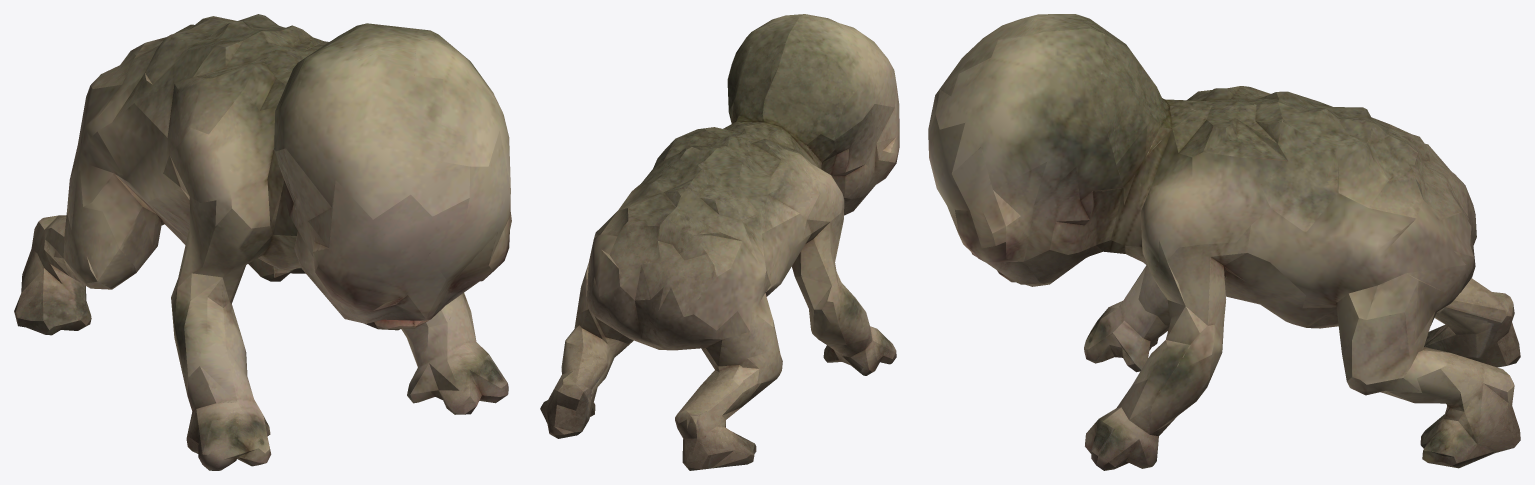
The model's file is rotspawn-pixelated.glb.
The picture shows the model from 3 angles, left to right: view 1: azimuth 30°, elevation 25°; view 2: azimuth 150°, elevation 25°; view 3: azimuth 270°, elevation 25°; orthographic projection. The views are drawn at different scales.
Parts seen in each view (by area): view 1: geometry_0; view 2: geometry_0; view 3: geometry_0.
Boxes of the visible parts, x1=… form: geometry_0: x1=14, y1=14, x2=511, y2=470; geometry_0: x1=540, y1=14, x2=899, y2=470; geometry_0: x1=928, y1=14, x2=1520, y2=470.
Size of the model in its own units: 1.03 by 1.36 by 1.9.
Materials: 1 (1 with a texture image).
